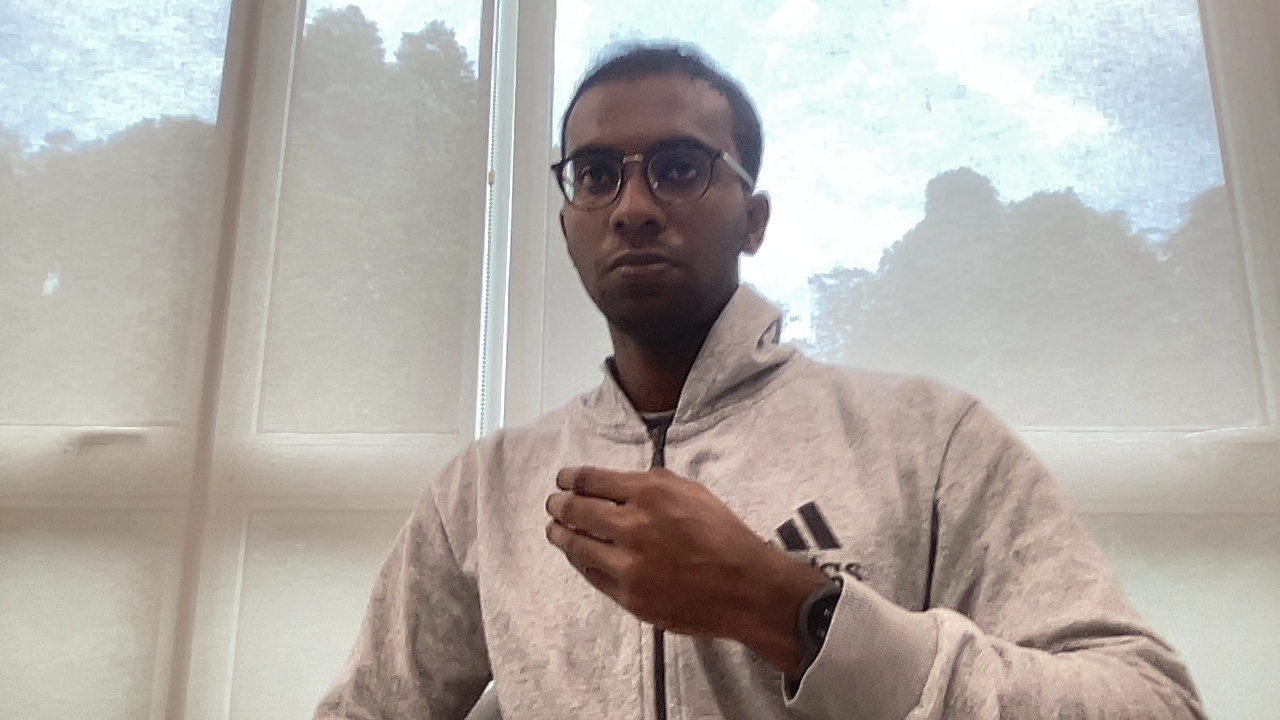drink: (539, 462, 784, 643)
